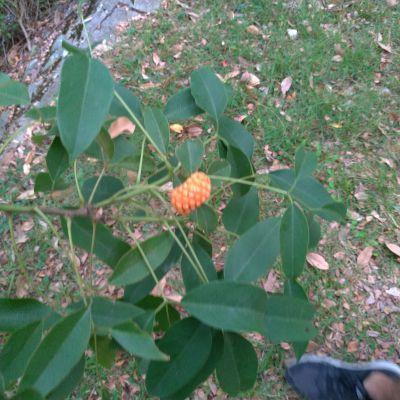eggs: (167, 170, 213, 213)
